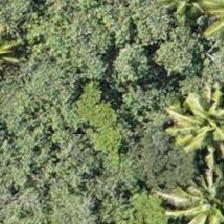coconut_tree: (148, 74, 223, 164), (158, 76, 223, 166), (144, 156, 223, 223), (167, 153, 223, 223)
